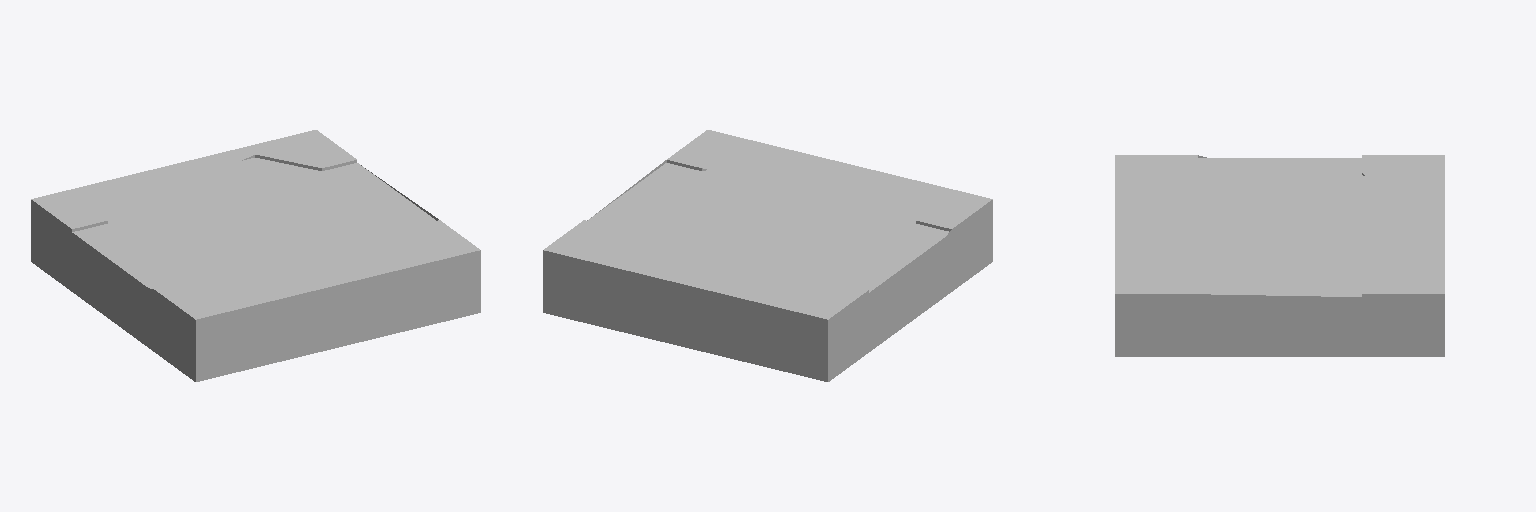
File: roadTile_080.obj
3 views of the same model, side by side, from view 1: azimuth 30°, elevation 25°; view 2: azimuth 150°, elevation 25°; view 3: azimuth 270°, elevation 25° (orthographic).
Visible parts, largest first — view 1: Mesh1 Group1 Model; view 2: Mesh1 Group1 Model; view 3: Mesh1 Group1 Model.
Boxes of the visible parts, box(x1,y1,x2,y2) form: Mesh1 Group1 Model: box(31, 130, 480, 381); Mesh1 Group1 Model: box(543, 130, 992, 381); Mesh1 Group1 Model: box(1115, 155, 1444, 356).
Bounding box in the file's own units: 3 × 0.63 × 3.